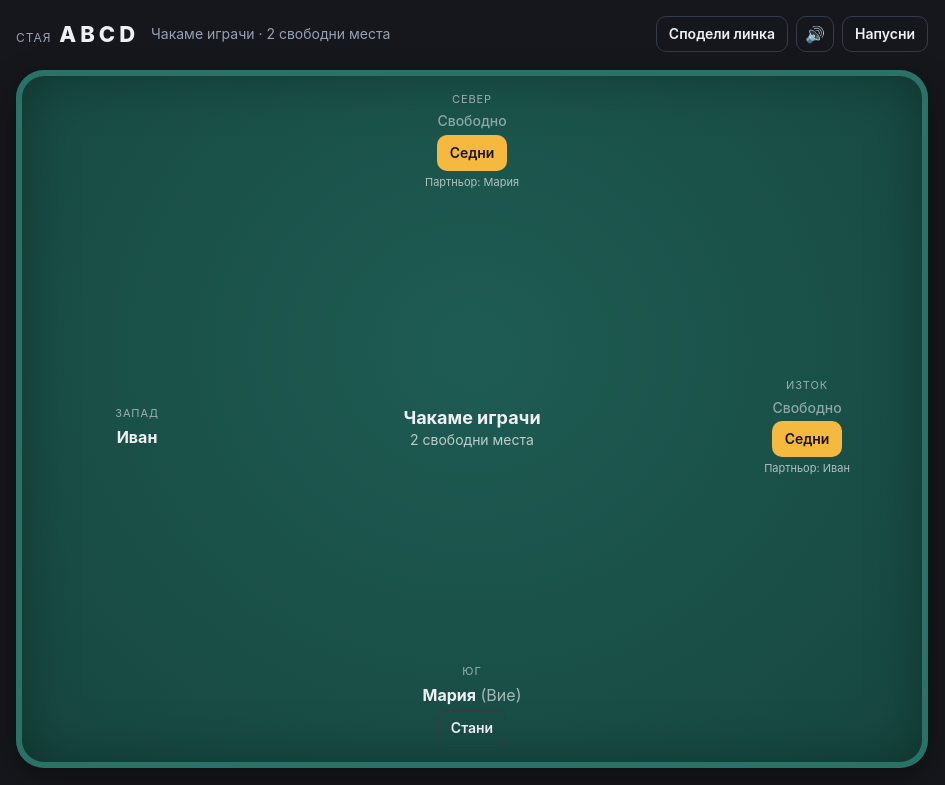
waiting table › copies the share link
The width and height of the screenshot is (945, 785).
Click the button "Сподели линка".
click(722, 34)  # box [656,16,788,52]
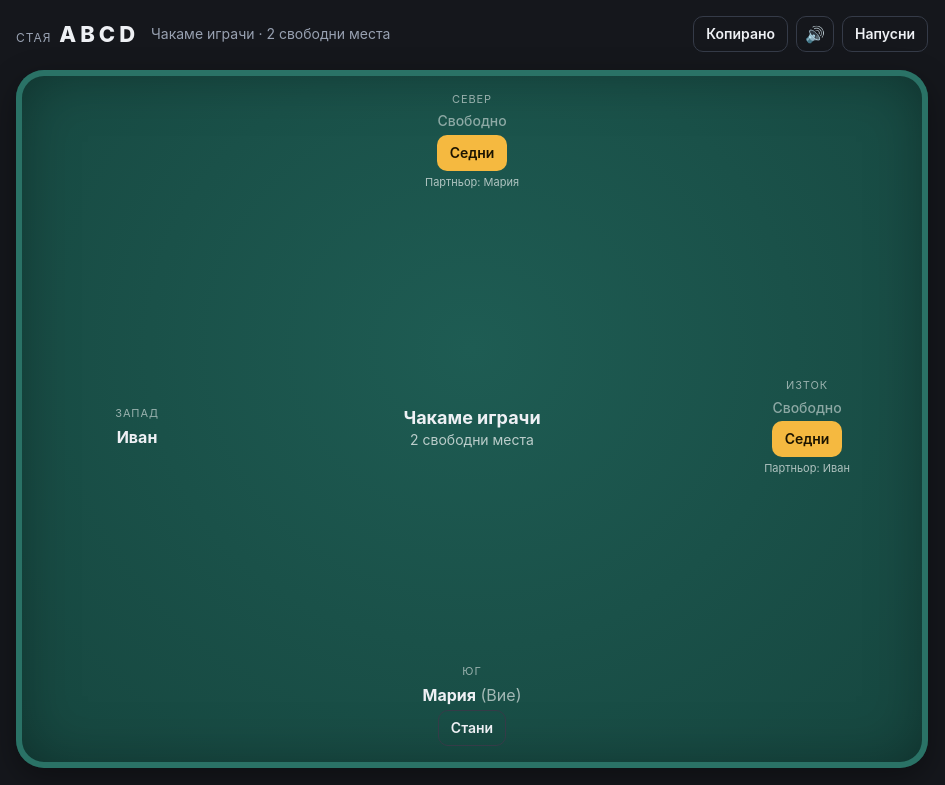
Now the button "Копирано" is shown, box [693,16,788,52]
